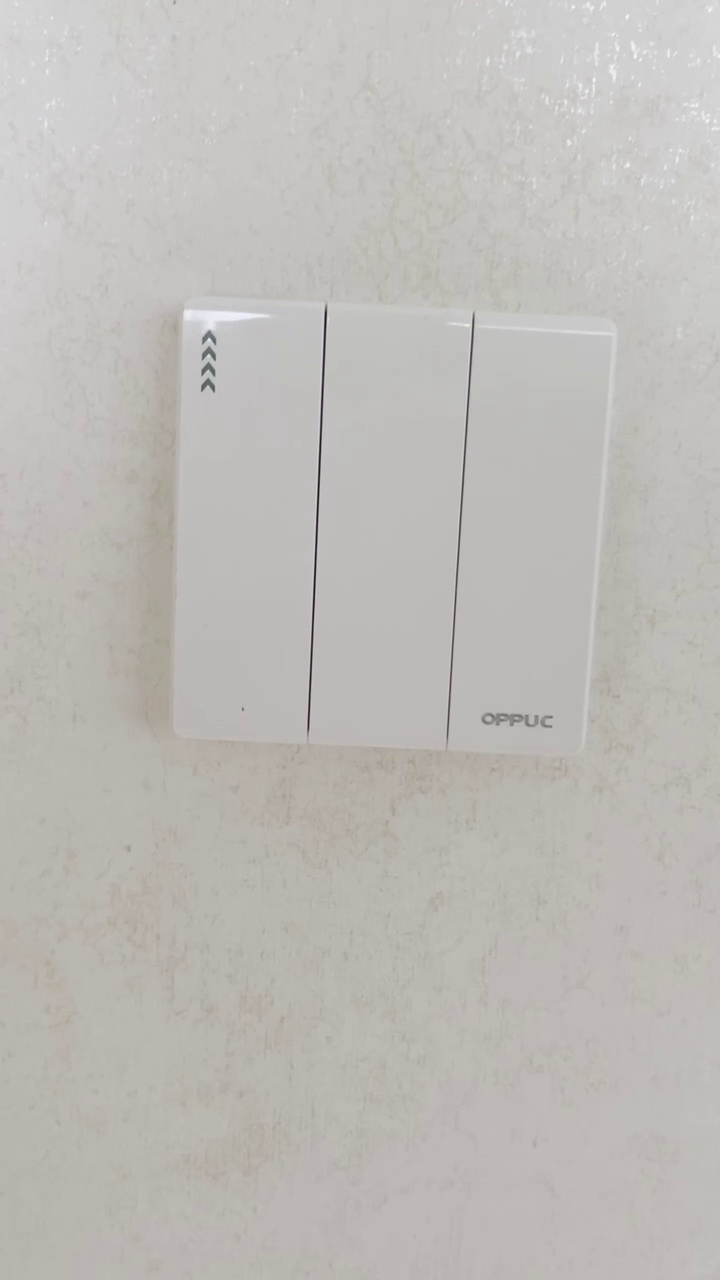button1: (456, 315, 609, 752), (313, 309, 464, 751), (179, 306, 316, 738)
